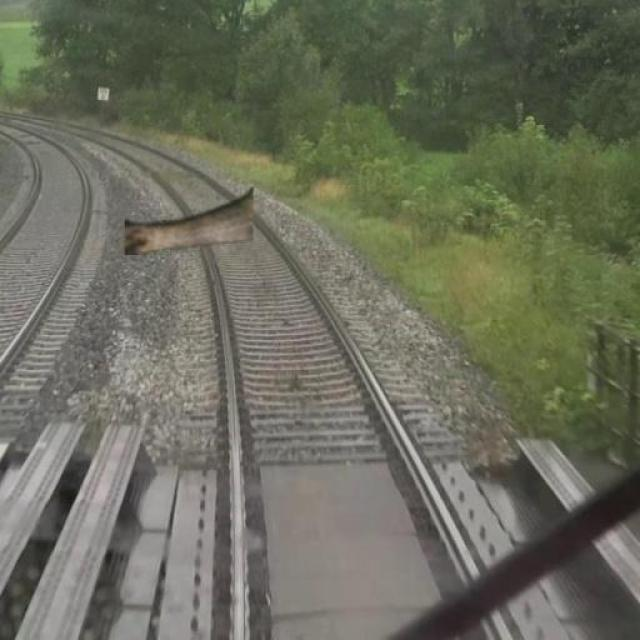Branches: (118, 188, 268, 262)
